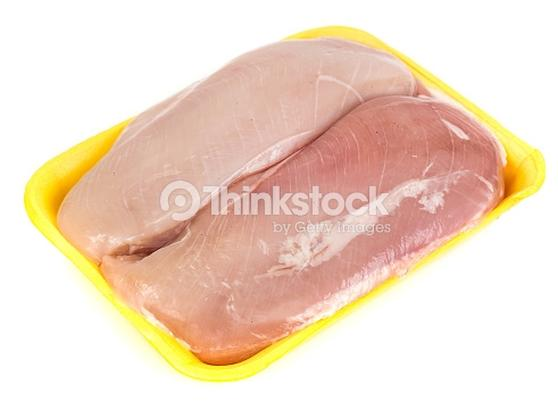chicken_fillet: (105, 91, 509, 358), (54, 33, 435, 263)
